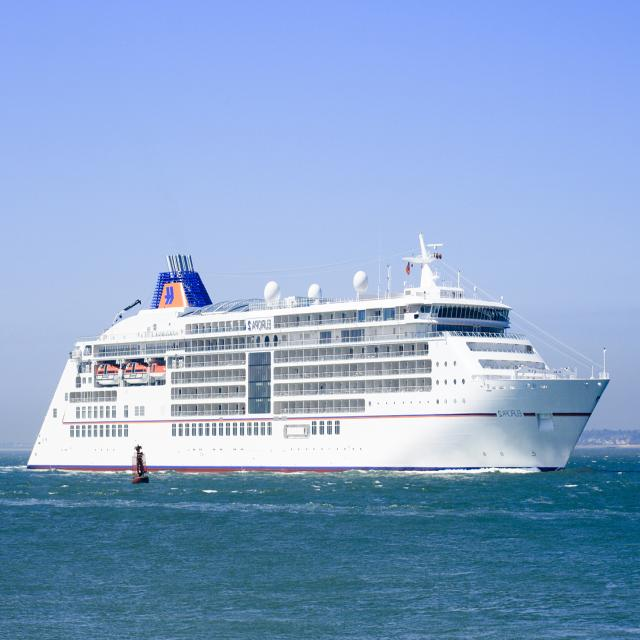buoy: (125, 440, 155, 486)
passenger ship: (26, 228, 610, 469)
